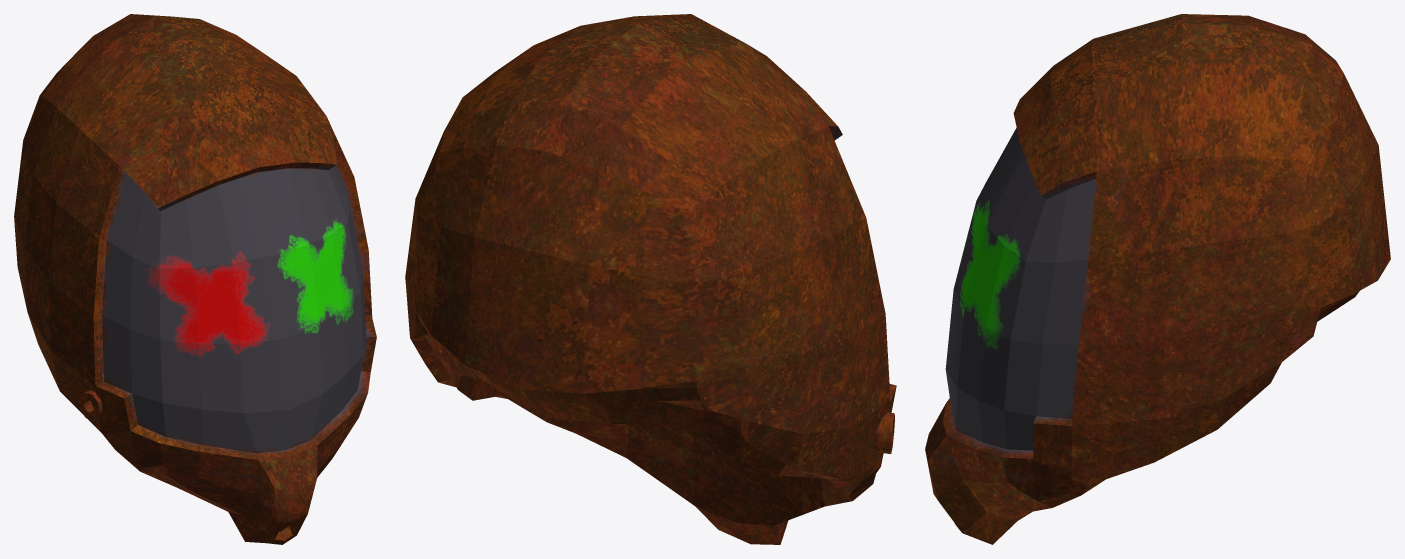
File: Generic_Helmet_2.fbx
3 views of the same model, side by side, from view 1: azimuth 30°, elevation 25°; view 2: azimuth 150°, elevation 25°; view 3: azimuth 270°, elevation 25° (orthographic). The views are drawn at different scales.
Parts seen in each view (by area): view 1: Helmet; view 2: Helmet; view 3: Helmet.
Part boxes in pixels (bbox=[...]): Helmet: bbox=[14, 14, 376, 544]; Helmet: bbox=[405, 14, 896, 544]; Helmet: bbox=[925, 14, 1390, 544].
Size of the model in its own units: 63.12 by 91.77 by 75.23.
